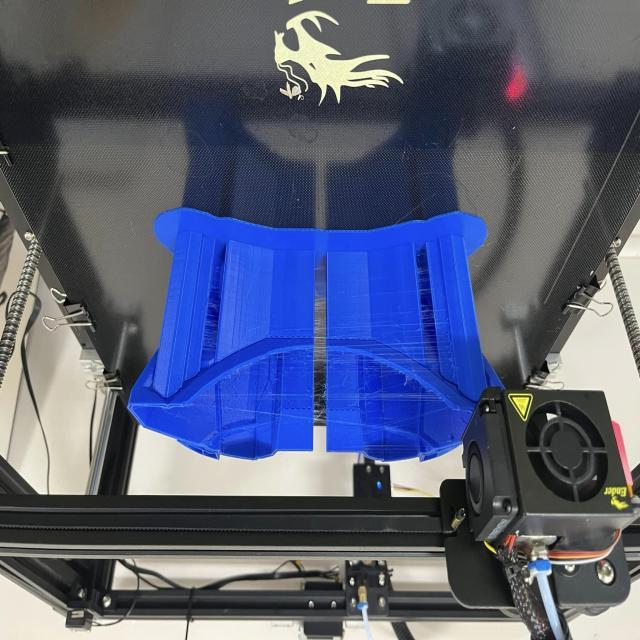Stringing: (354, 389, 438, 404), (314, 322, 326, 362), (423, 339, 437, 367), (202, 324, 216, 348), (420, 304, 433, 327), (312, 404, 326, 424)
